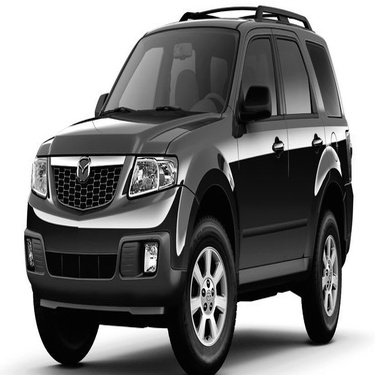car: (21, 1, 359, 363)
